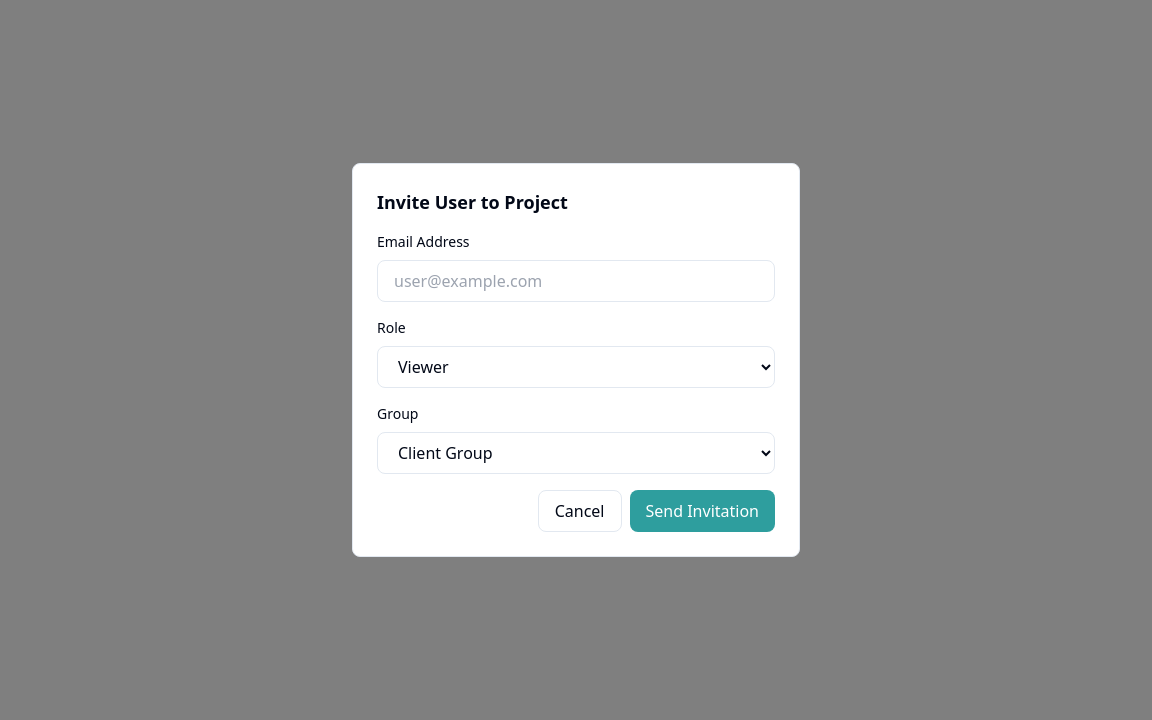
Test: InviteUserModal › should show error for empty email
Click the button with test id "invite-button": (702, 511) x1=630 y1=490 x2=775 y2=532
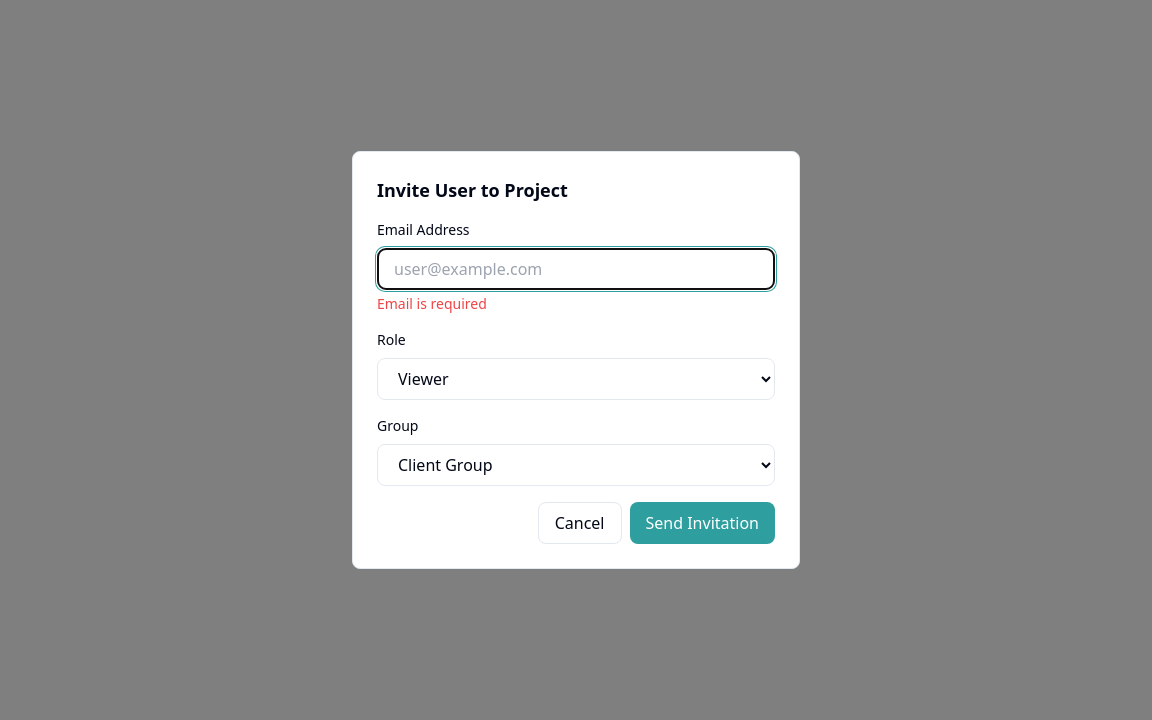
expect the text "Email is required" is shown: met, box x1=377 y1=294 x2=487 y2=313
